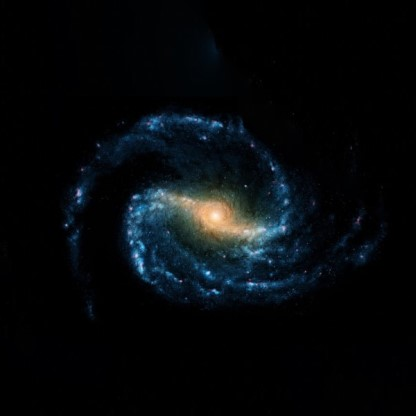NGC 1300: (36, 109, 402, 323)
